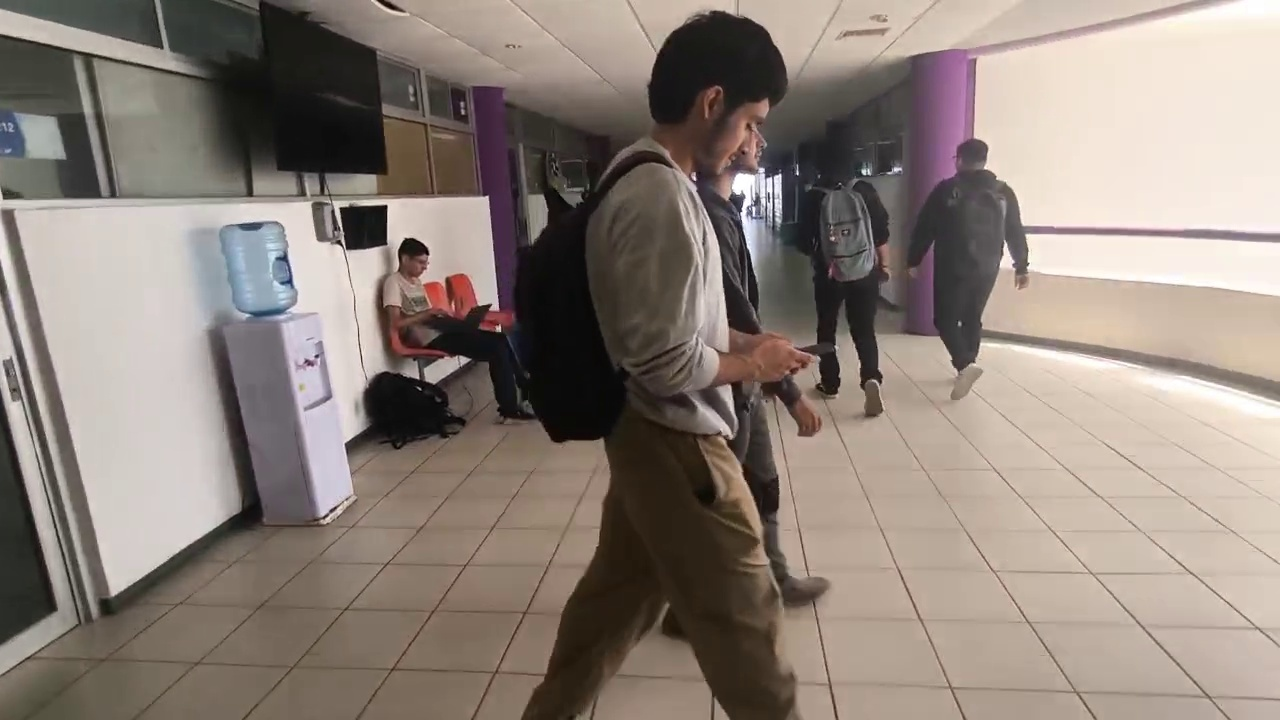mixto2: (795, 331, 841, 363)
